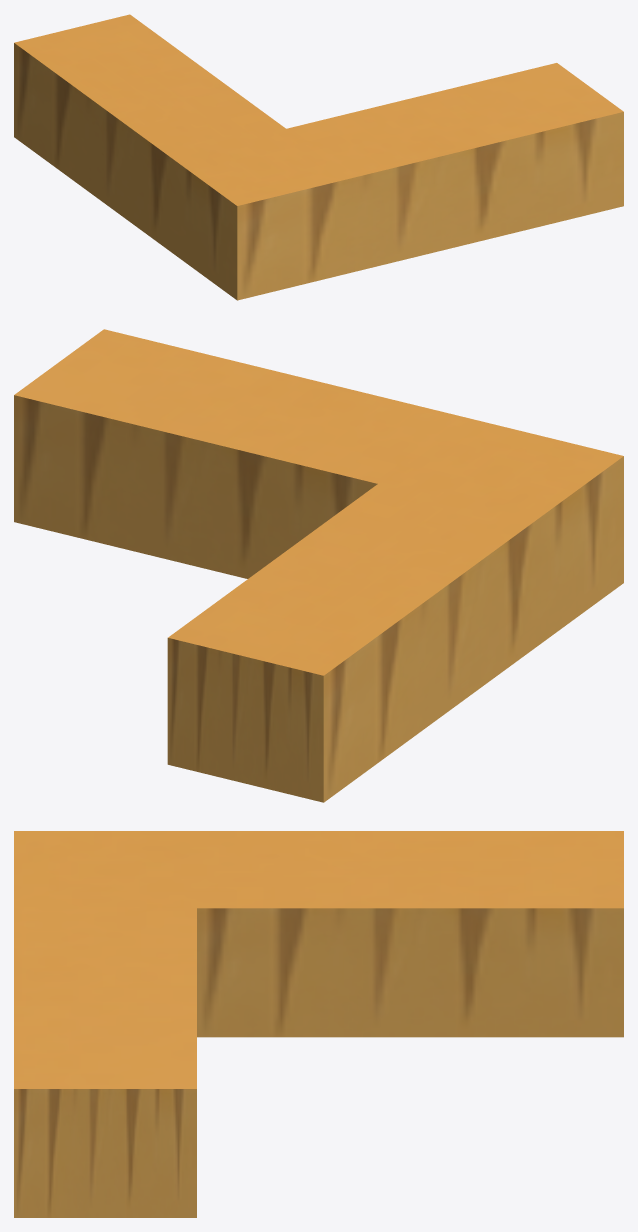
File: rc_wa_roof_corner.glb
3 renders of one model, top to bottom at view 1: azimuth 30°, elevation 25°; view 2: azimuth 150°, elevation 25°; view 3: azimuth 270°, elevation 25°, orthographic. The views are drawn at different scales.
Visible parts, largest first — view 1: SM_RC_WA_ThatchRoofCorner; view 2: SM_RC_WA_ThatchRoofCorner; view 3: SM_RC_WA_ThatchRoofCorner.
Part boxes in pixels (left/top/right/bottom): SM_RC_WA_ThatchRoofCorner: left=14, top=14, right=623, bottom=300; SM_RC_WA_ThatchRoofCorner: left=14, top=329, right=623, bottom=802; SM_RC_WA_ThatchRoofCorner: left=14, top=831, right=623, bottom=1217.
Bounding box in the file's own units: 1.5 × 0.35 × 1.5.
Materials: 1 (1 with a texture image).
